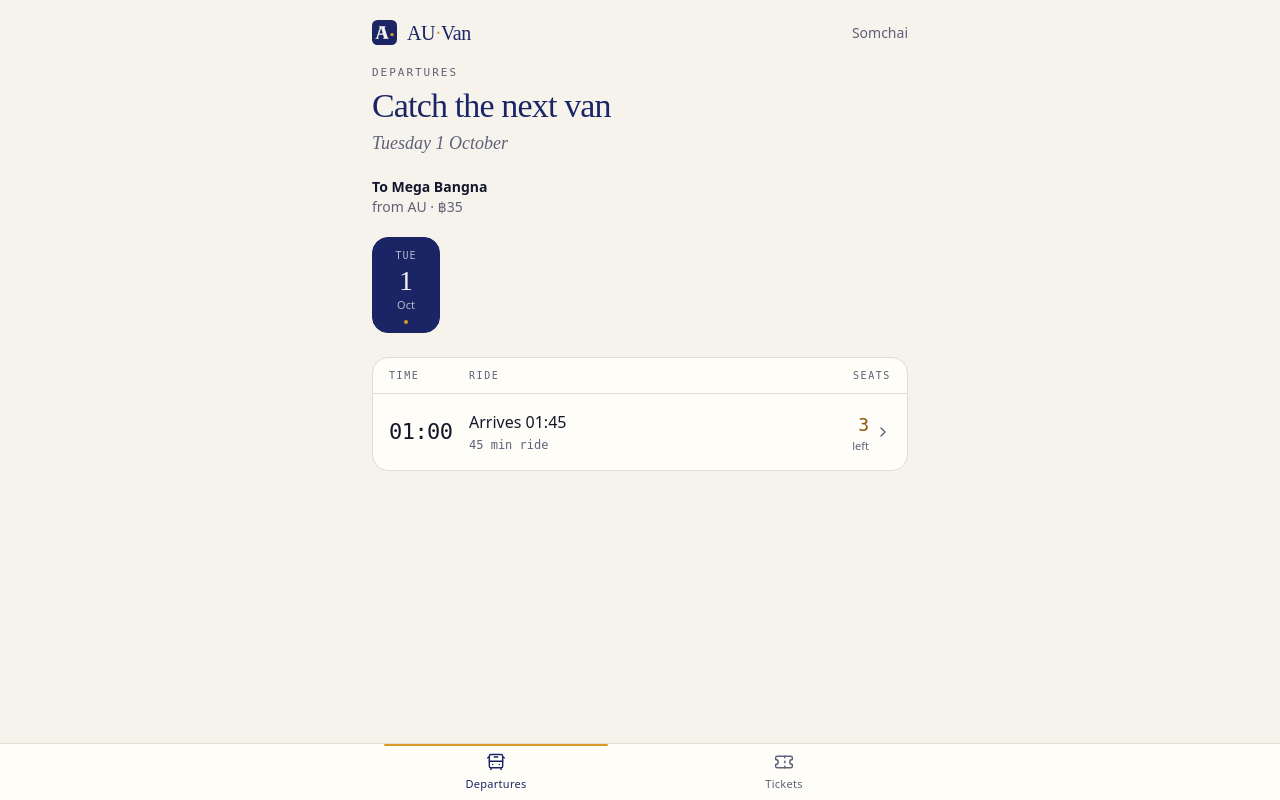
Test case: Student fair-booking rules › sends a student who already booked this trip to their tickets
Click the button with aria-label "Mega Bangna" at (421, 432), box top-left (373, 394), bottom-right (907, 470)
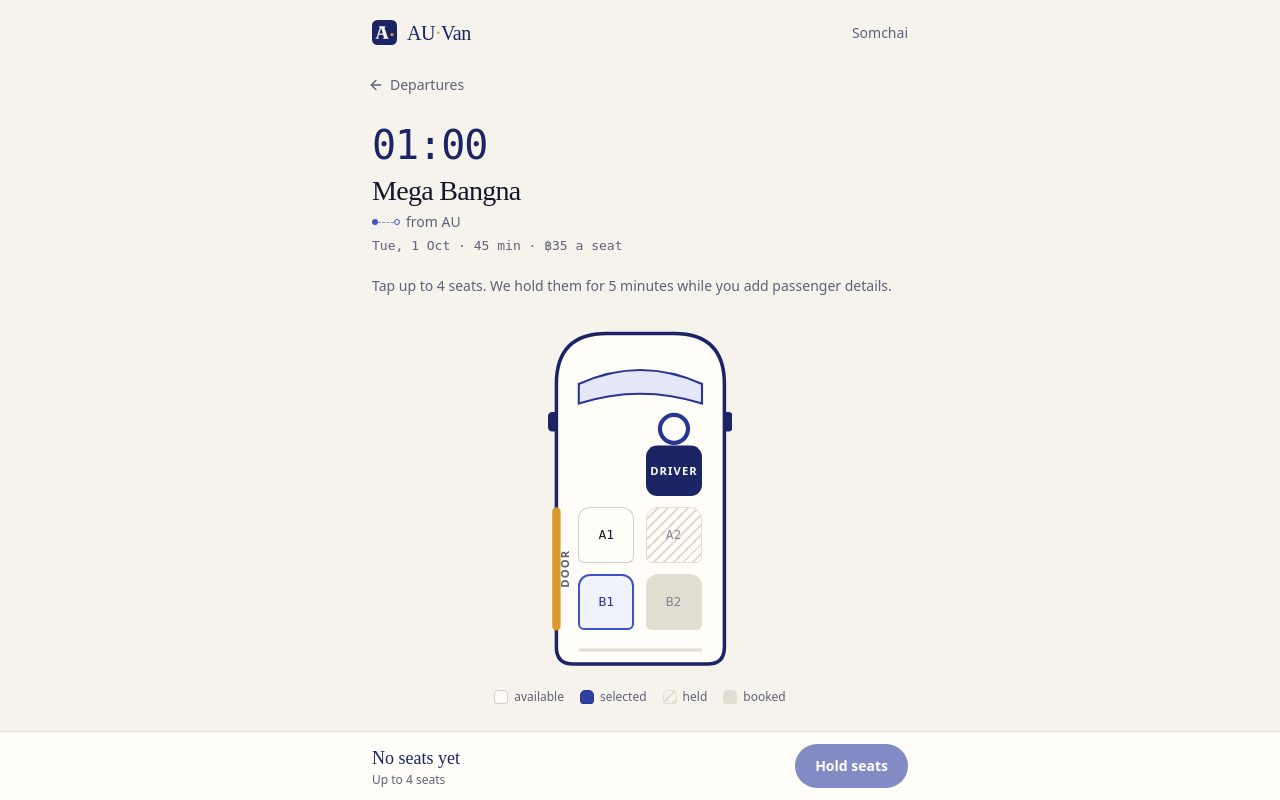
Click the button named "Seat A1, available" at (606, 535), box top-left (578, 507), bottom-right (634, 563)
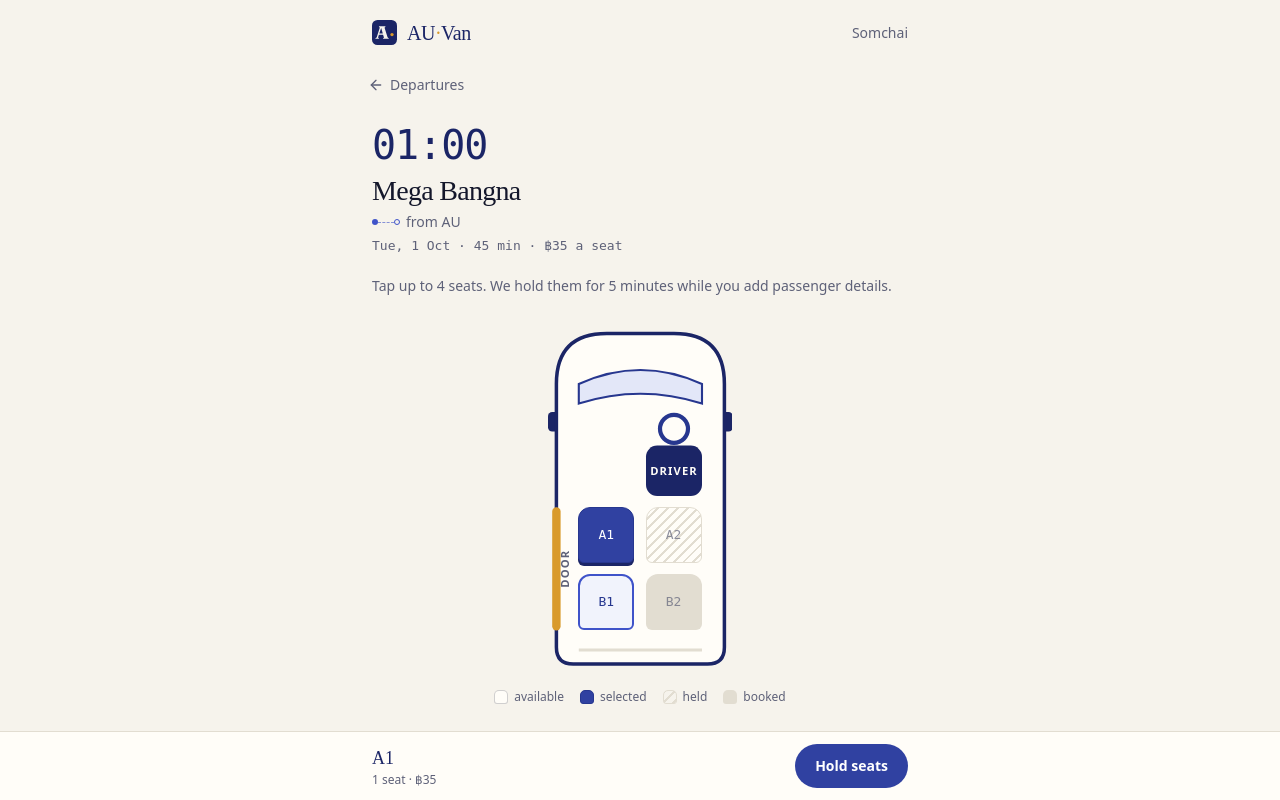
Click the button "Hold seats" at (852, 766), box top-left (795, 744), bottom-right (908, 788)
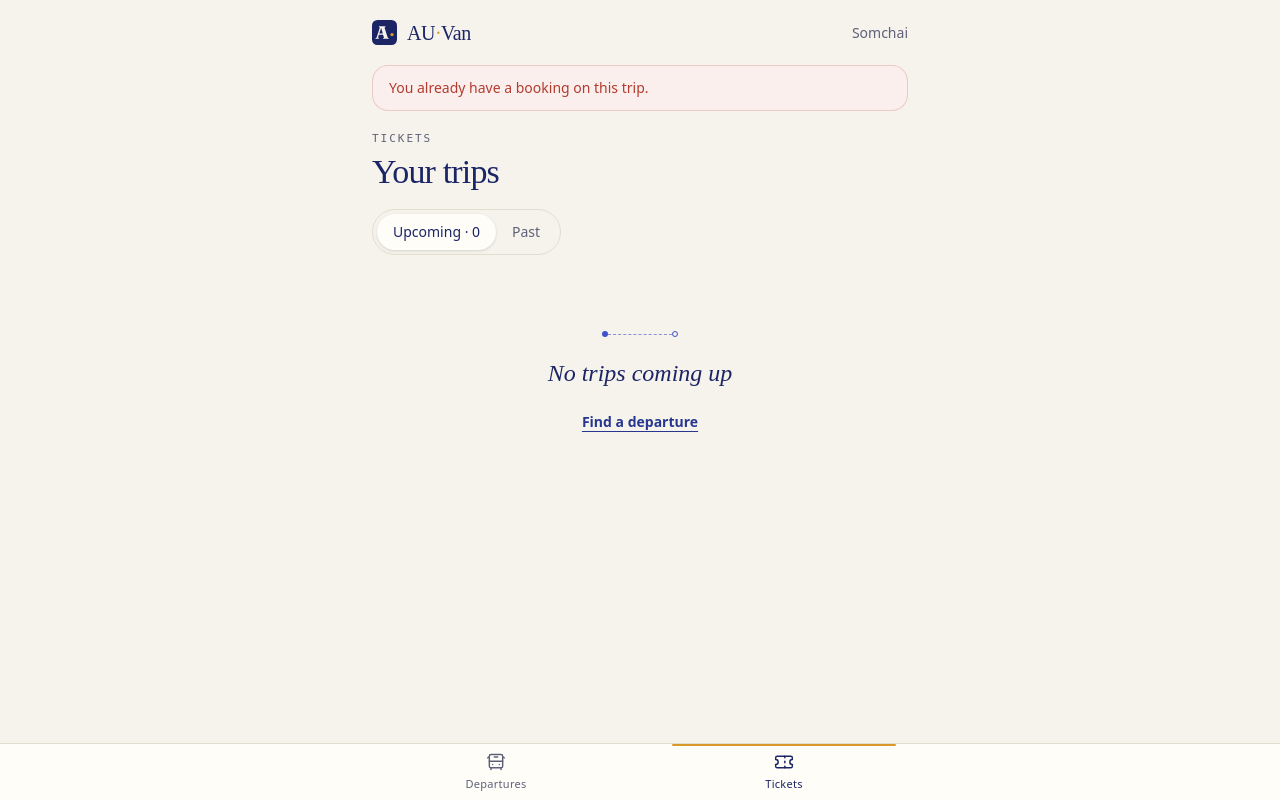
Now the text "You already have a booking on this trip." is shown, box top-left (372, 65), bottom-right (908, 111)
Now the heading "Your trips" is shown, box top-left (372, 152), bottom-right (499, 190)
